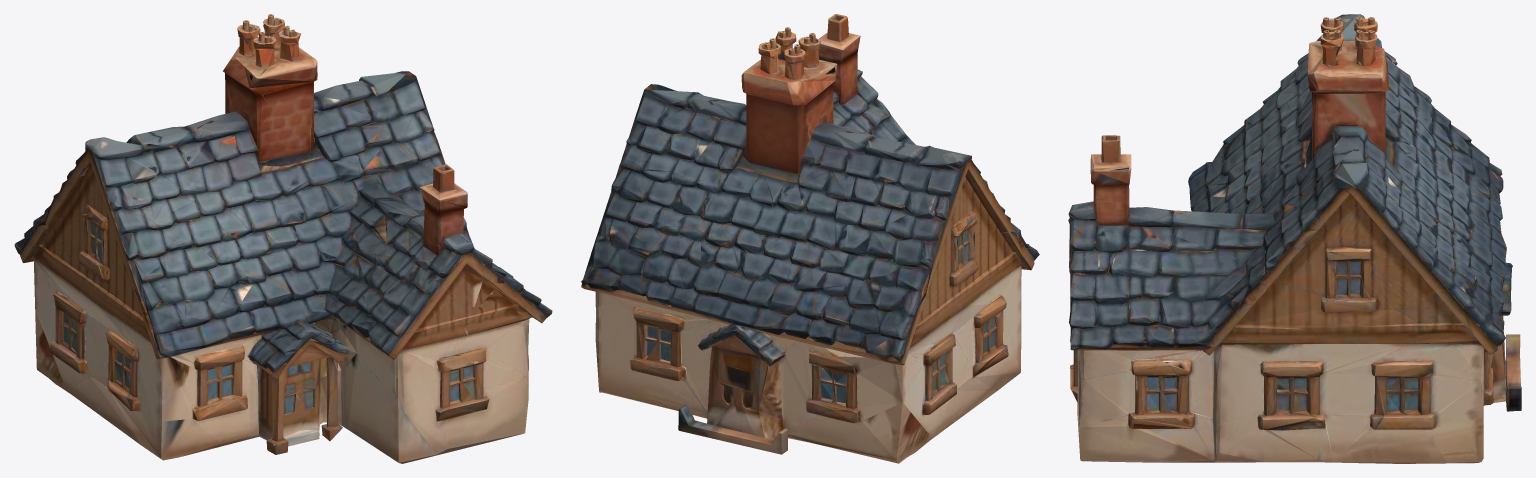
File: town_cottage_old_small.glb
3 views of the same model, side by side, from view 1: azimuth 30°, elevation 25°; view 2: azimuth 150°, elevation 25°; view 3: azimuth 270°, elevation 25° (orthographic). The views are drawn at different scales.
Visible parts, largest first — view 1: normalize; view 2: normalize; view 3: normalize.
Boxes of the visible parts, box(x1,y1,x2,y2) form: normalize: box(14, 14, 552, 463); normalize: box(581, 14, 1039, 463); normalize: box(1068, 14, 1521, 463).
Size of the model in its own units: 0.9122 by 0.9016 by 1.
1 material, 1 textured.
